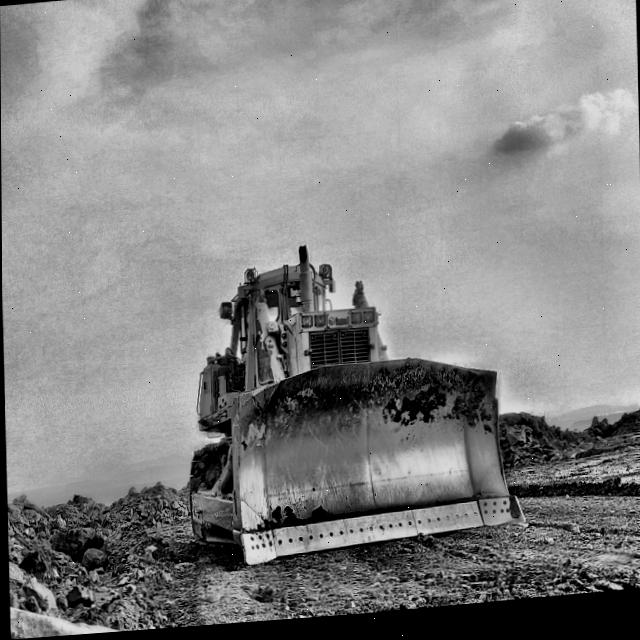buldozerpayloadergrader: (188, 253, 520, 567)
